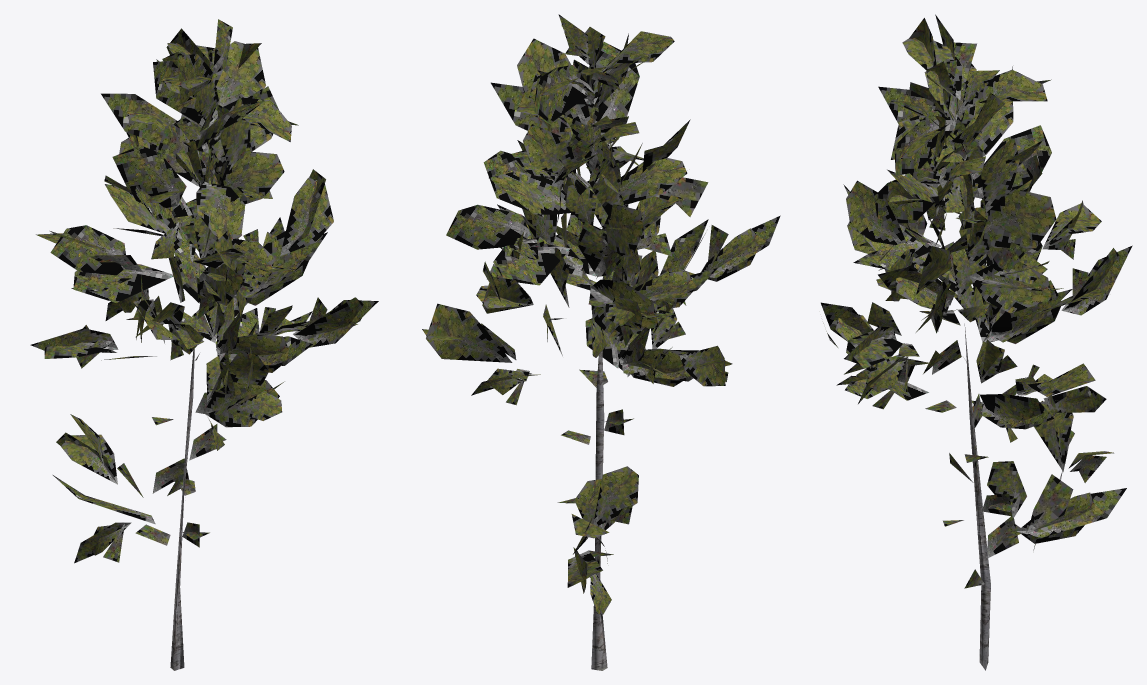
Rendered from temperate-birch-big-mid.glb.
3 renders of one model, left to right at view 1: azimuth 30°, elevation 25°; view 2: azimuth 150°, elevation 25°; view 3: azimuth 270°, elevation 25°, orthographic.
Visible parts, largest first — view 1: birch_big_LOD0; view 2: birch_big_LOD0; view 3: birch_big_LOD0.
Part boxes in pixels (x1,y1,x2,y2): birch_big_LOD0: (30,19,378,670); birch_big_LOD0: (422,14,780,670); birch_big_LOD0: (821,14,1132,670).
Size of the model in its own units: 11.35 by 25.21 by 11.55.
1 material, 1 textured.
